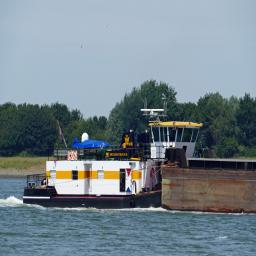tugboat: (22, 108, 219, 214)
